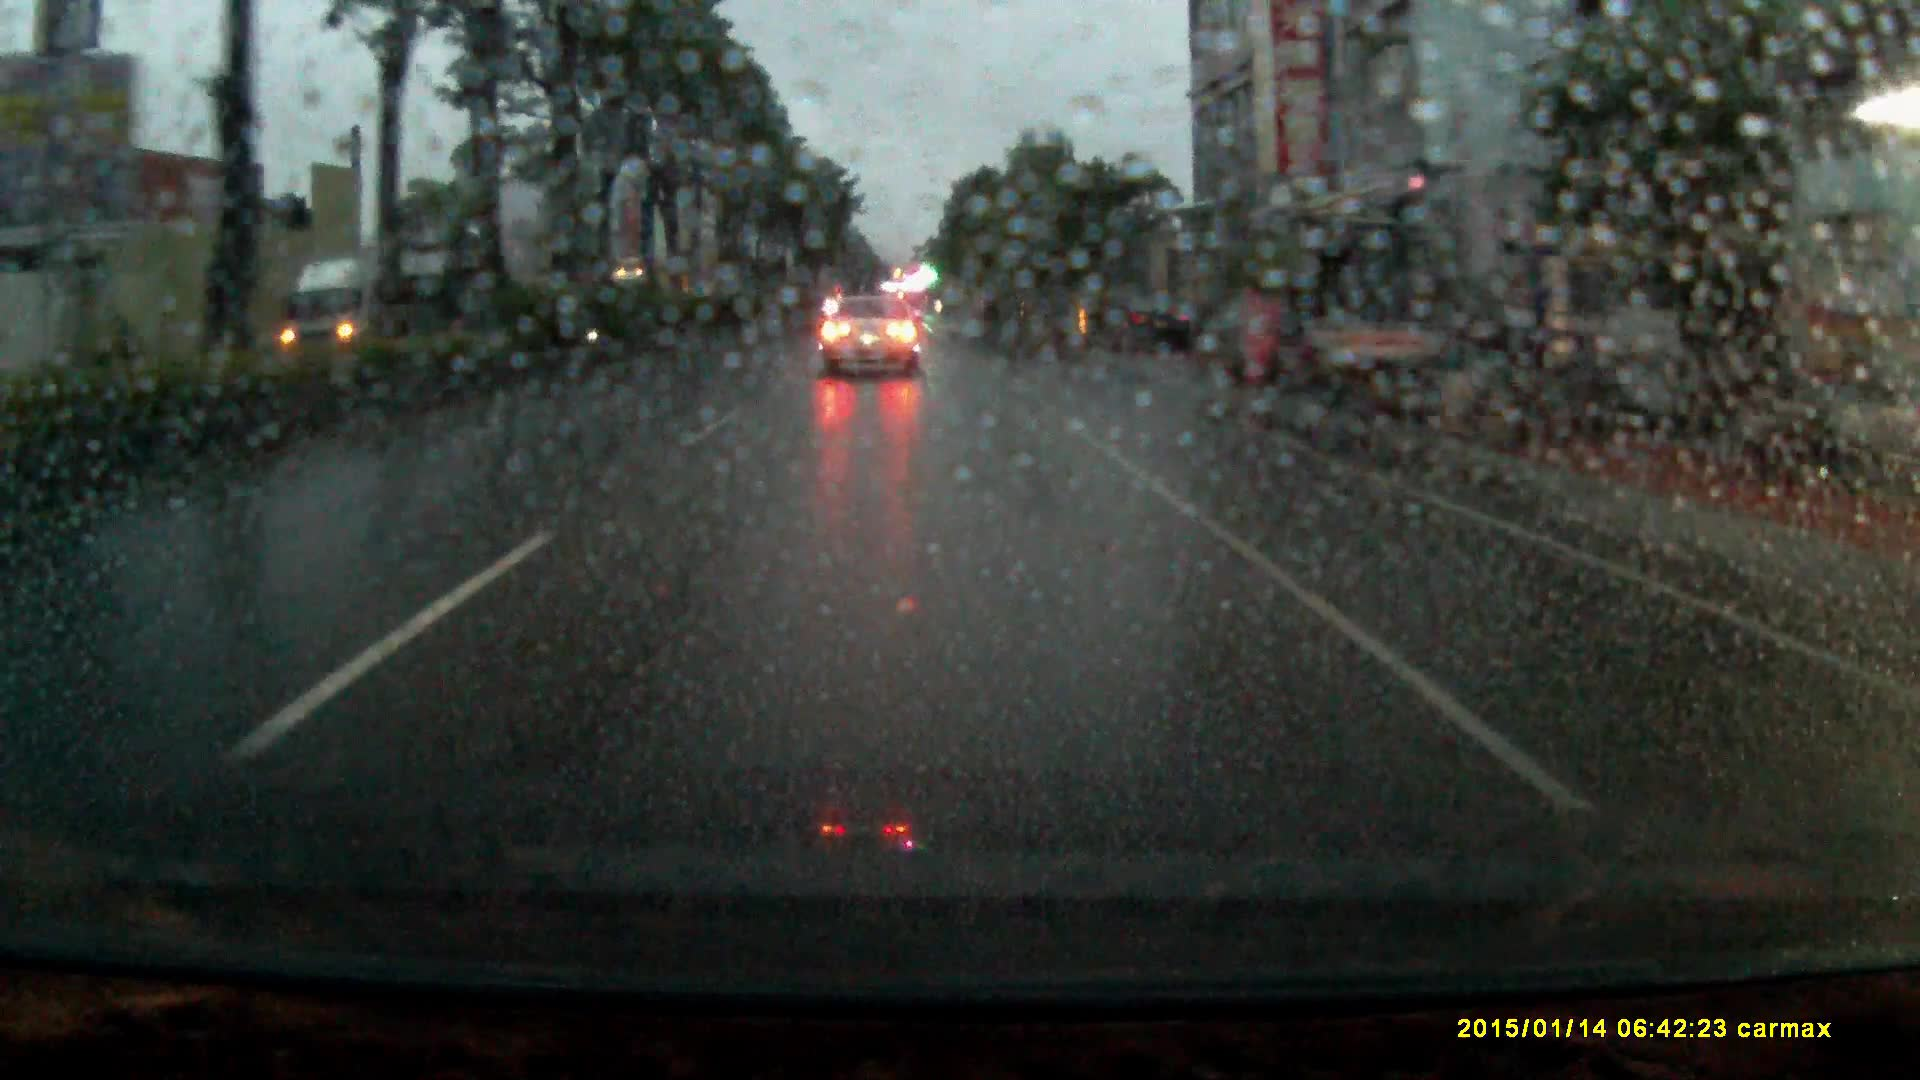vehicle: (276, 245, 448, 342), (822, 291, 922, 378), (1108, 294, 1193, 351)
